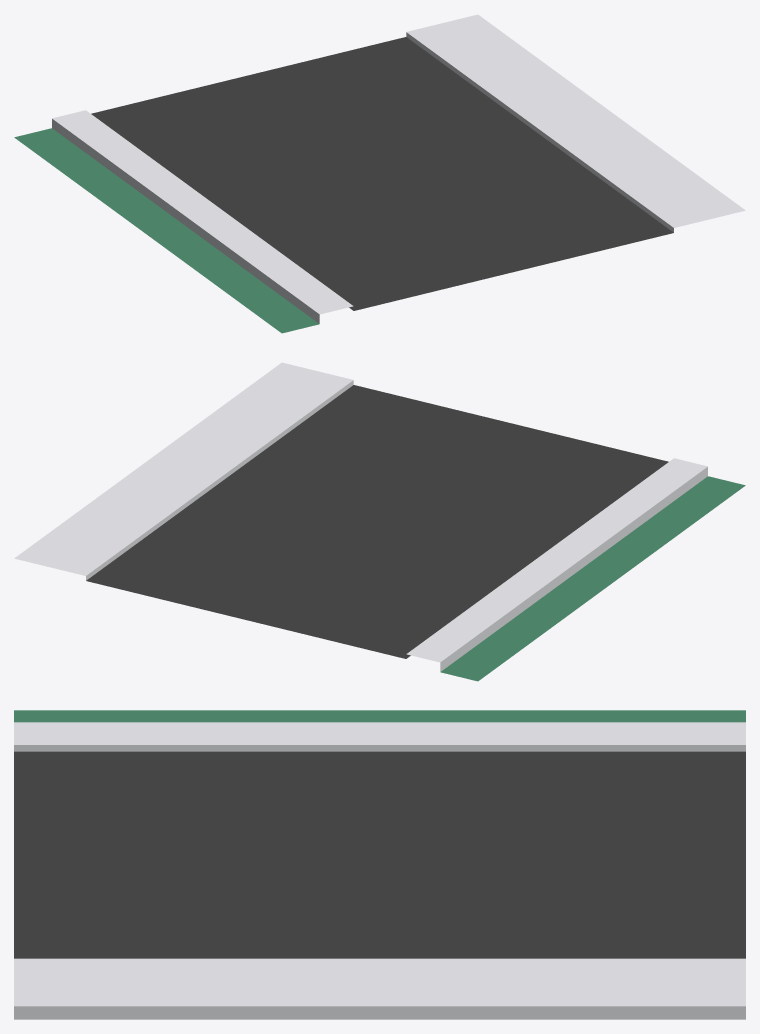
File: roadPitStraight.glb
The picture shows the model from 3 angles, top to bottom: view 1: azimuth 30°, elevation 25°; view 2: azimuth 150°, elevation 25°; view 3: azimuth 270°, elevation 25°; orthographic projection. The views are drawn at different scales.
Parts seen in each view (by area): view 1: roadPitStraight(Clone); view 2: roadPitStraight(Clone); view 3: roadPitStraight(Clone).
Boxes of the visible parts, x1=… form: roadPitStraight(Clone): x1=14, y1=14, x2=745, y2=333; roadPitStraight(Clone): x1=14, y1=362, x2=745, y2=681; roadPitStraight(Clone): x1=14, y1=710, x2=745, y2=1019.
Bounding box in the file's own units: 1 × 0.02 × 1.
